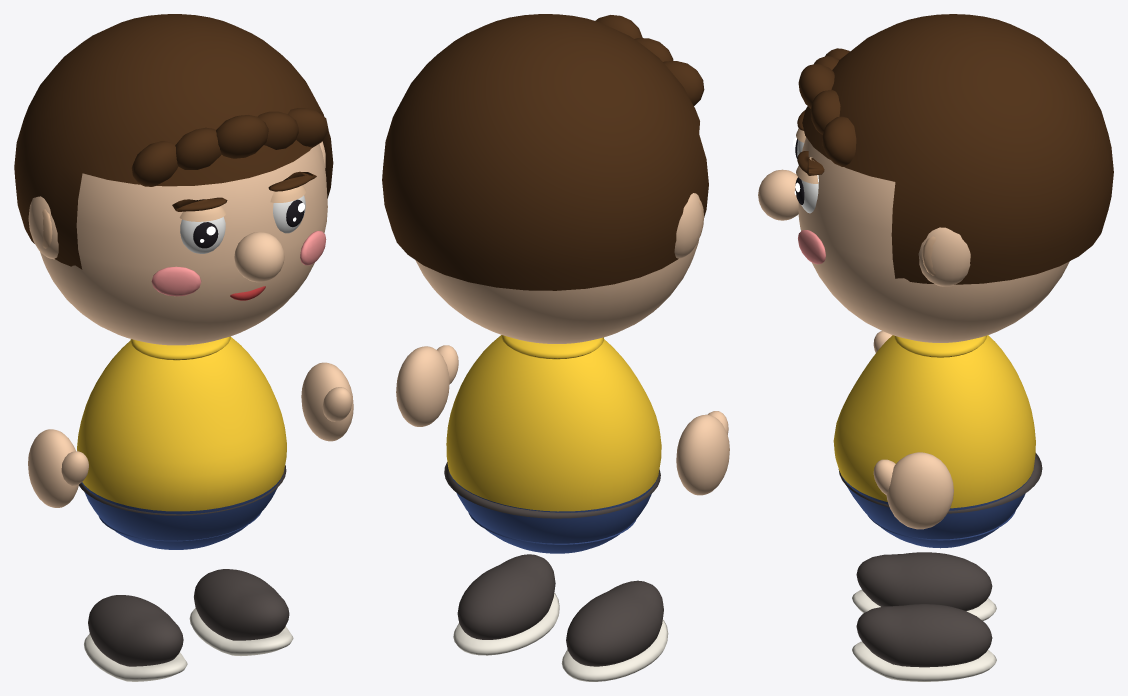
File: char_cocuk.glb
3 renders of one model, left to right at view 1: azimuth 30°, elevation 25°; view 2: azimuth 150°, elevation 25°; view 3: azimuth 270°, elevation 25°, orthographic. The views are drawn at different scales.
Parts seen in each view (by area): view 1: Head, Body, FootL, FootR, HandR, HandL, EyeR, EyeL, PupilR; view 2: Head, Body, FootL, FootR, HandL, HandR; view 3: Head, Body, FootL, FootR, HandL, EyeL.
Part boxes in pixels (bbox=[...]): Head: bbox=[14, 14, 333, 345]; Body: bbox=[77, 336, 286, 549]; FootL: bbox=[189, 569, 293, 655]; FootR: bbox=[84, 595, 187, 681]; HandR: bbox=[28, 429, 88, 507]; HandL: bbox=[301, 362, 353, 441]; EyeR: bbox=[179, 200, 226, 253]; EyeL: bbox=[270, 185, 306, 233]; PupilR: bbox=[193, 222, 218, 248]; Head: bbox=[382, 14, 708, 343]; Body: bbox=[444, 335, 661, 553]; FootL: bbox=[453, 554, 559, 655]; FootR: bbox=[561, 580, 668, 681]; HandL: bbox=[396, 345, 458, 426]; HandR: bbox=[676, 411, 729, 495]; Head: bbox=[758, 14, 1113, 342]; Body: bbox=[833, 335, 1042, 548]; FootL: bbox=[852, 604, 996, 681]; FootR: bbox=[852, 552, 996, 620]; HandL: bbox=[873, 452, 953, 529]; EyeL: bbox=[796, 157, 818, 213].
Bounding box in the file's own units: 0.7112 × 1.33 × 0.6976.
